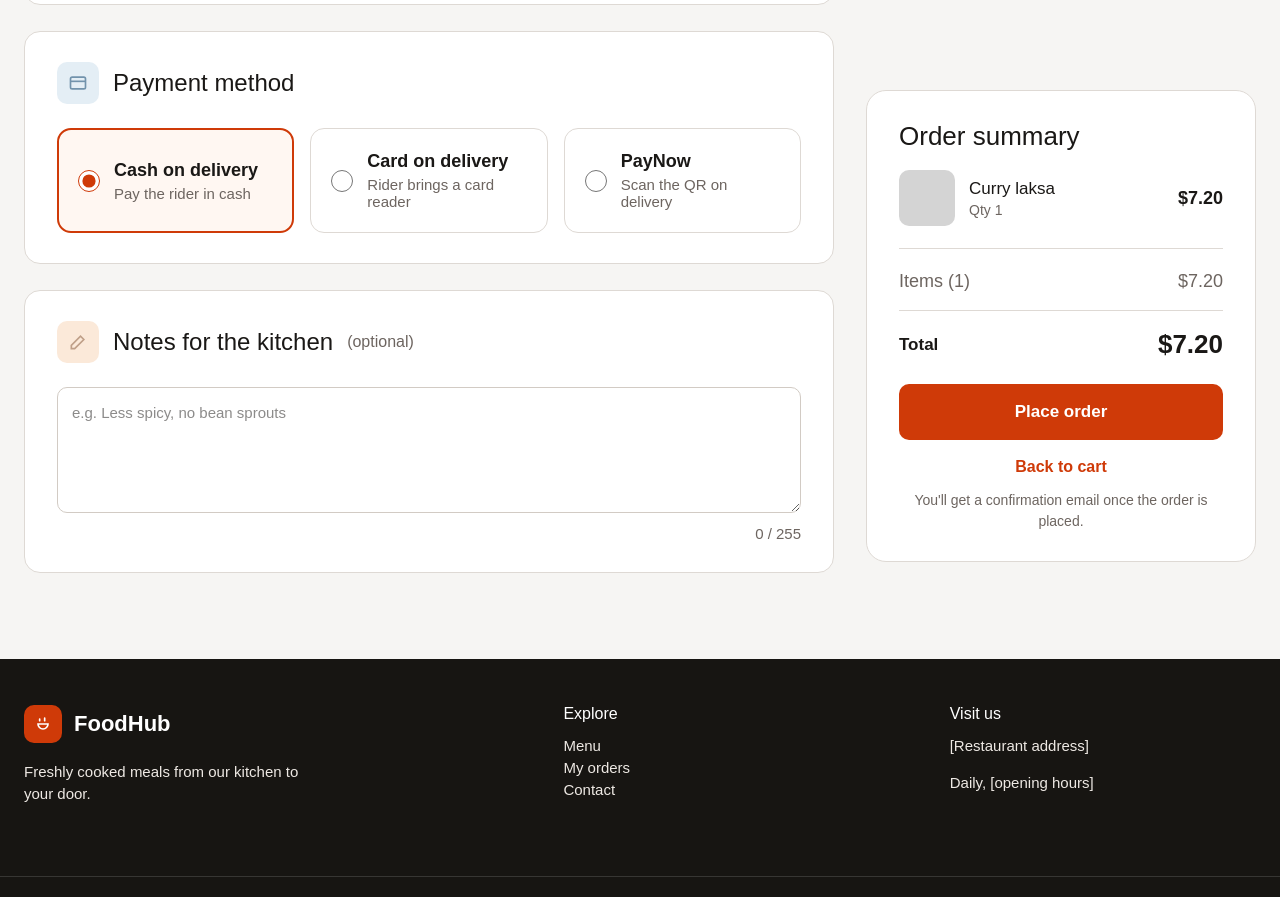
Test: Checkout › counts the notes live
The width and height of the screenshot is (1280, 897).
(page scrolled)
Expected: the text "0 / 255" is shown, [755,525,801,542]
Type "no sprouts" into the text box named "Notes for the kitchen".
click(429, 450); type("no sprouts")  # box [57,387,801,513]
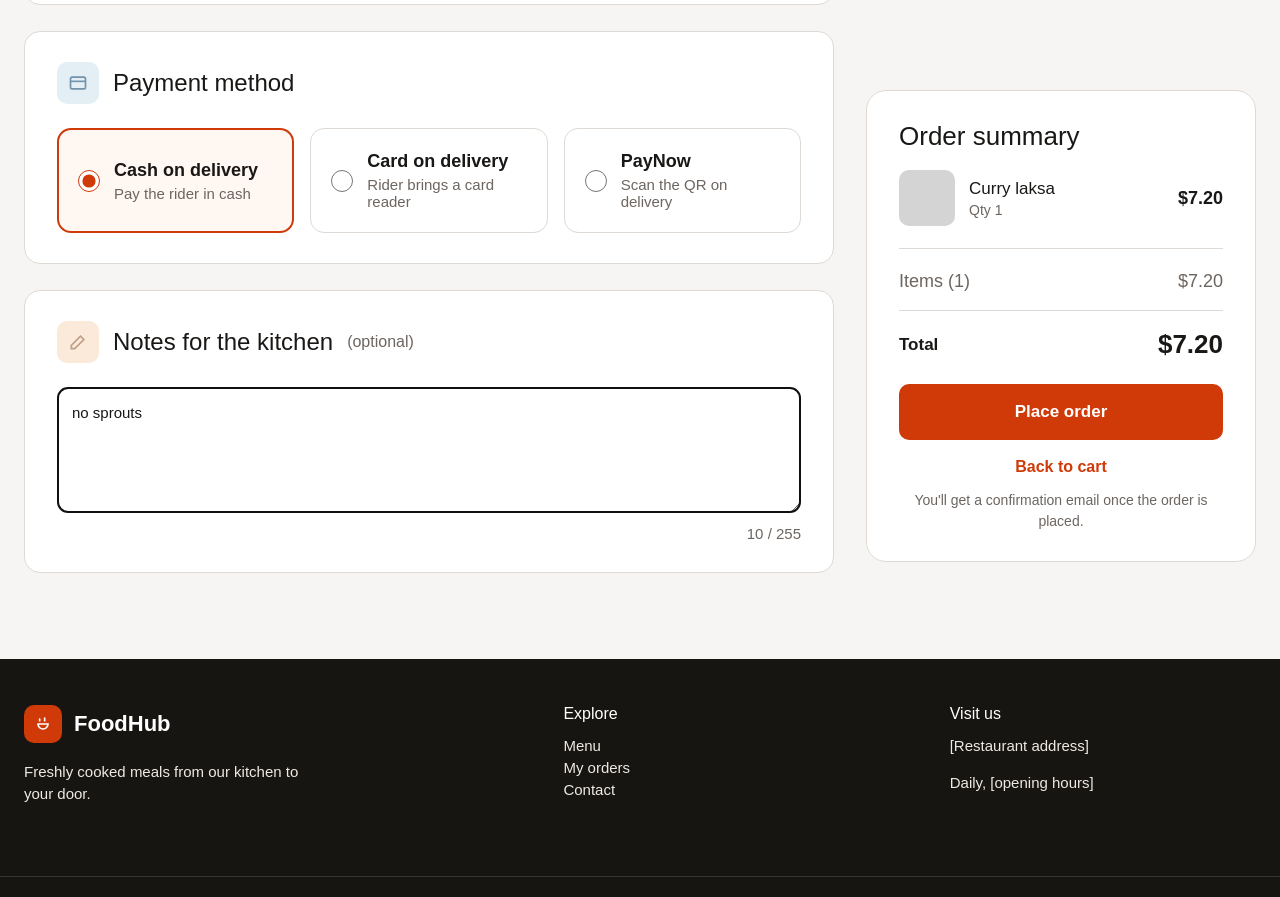
Expected: the text "10 / 255" is shown, [747,525,801,542]
